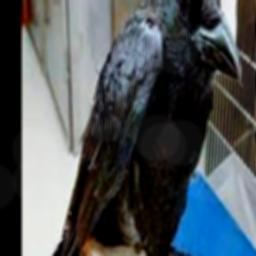Crow: (41, 0, 241, 256)
